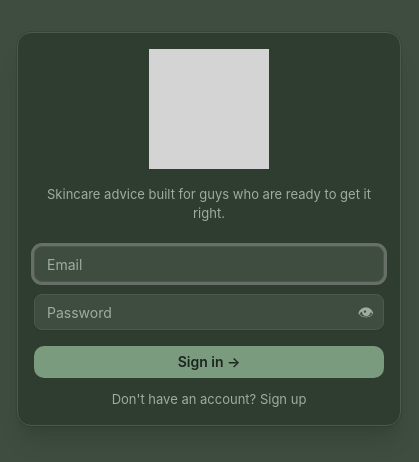
Scenario: SignInPage › shows a generic error for non-unconfirmed-email failures
Type "bob@example.com" into the field with placeholder "Email".
click(209, 264); type("bob@example.com")  # box [34, 246, 384, 282]
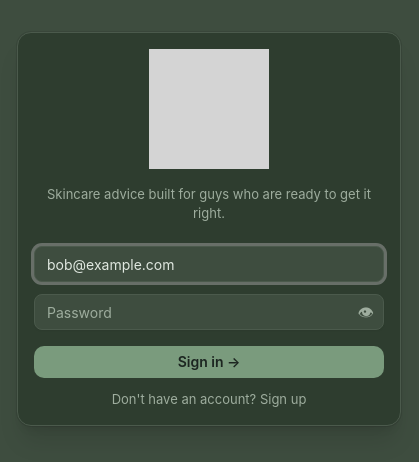
Type "wrong" into the password field with placeholder "Password".
click(209, 312); type("wrong")  # box [34, 294, 384, 330]
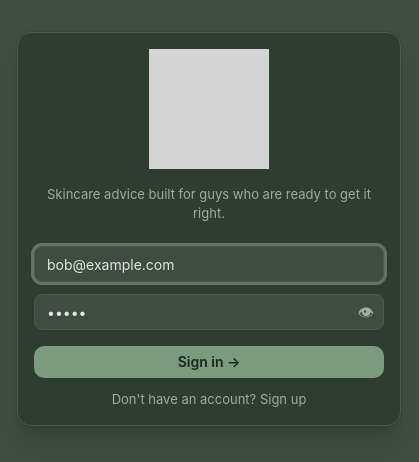
Click the button "Sign in →".
click(209, 362)  # box [34, 346, 384, 378]
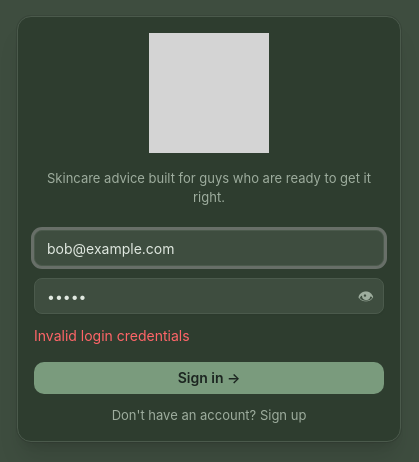
Check: the text "Invalid login credentials" is shown, box [34, 327, 190, 344]
